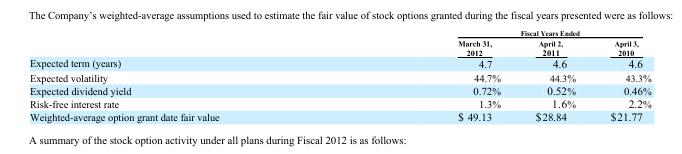table: (28, 28, 650, 122)
table column: (28, 28, 337, 122), (337, 28, 517, 122), (517, 28, 592, 122), (592, 28, 650, 122)
table column header: (28, 28, 650, 57)
table row: (28, 37, 650, 57), (28, 96, 650, 110), (28, 57, 650, 70), (28, 70, 650, 83), (28, 83, 650, 96), (28, 110, 650, 122), (28, 28, 650, 37)
table spanning cell: (337, 28, 650, 37)
